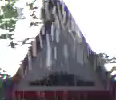Speed Breaker ahead: (3, 5, 115, 99)
